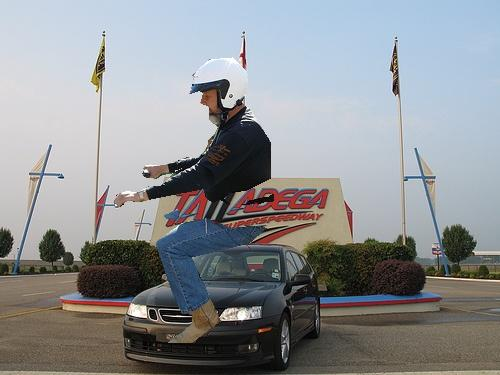tampered: (115, 58, 274, 343)
